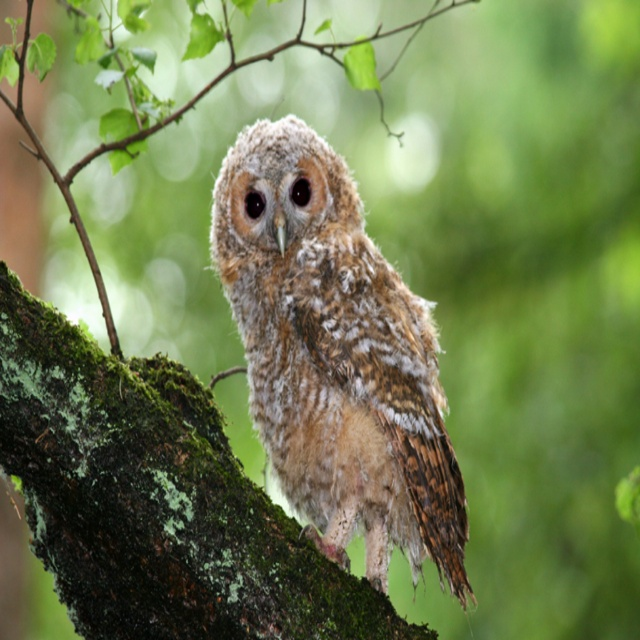Owl: (202, 112, 475, 615)
